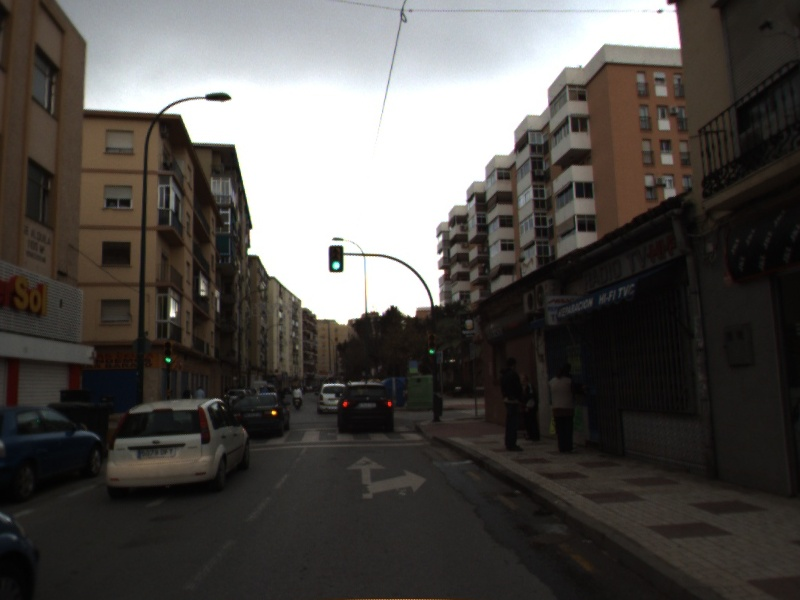STRAIGHT_RIGHT: (343, 453, 429, 501)
